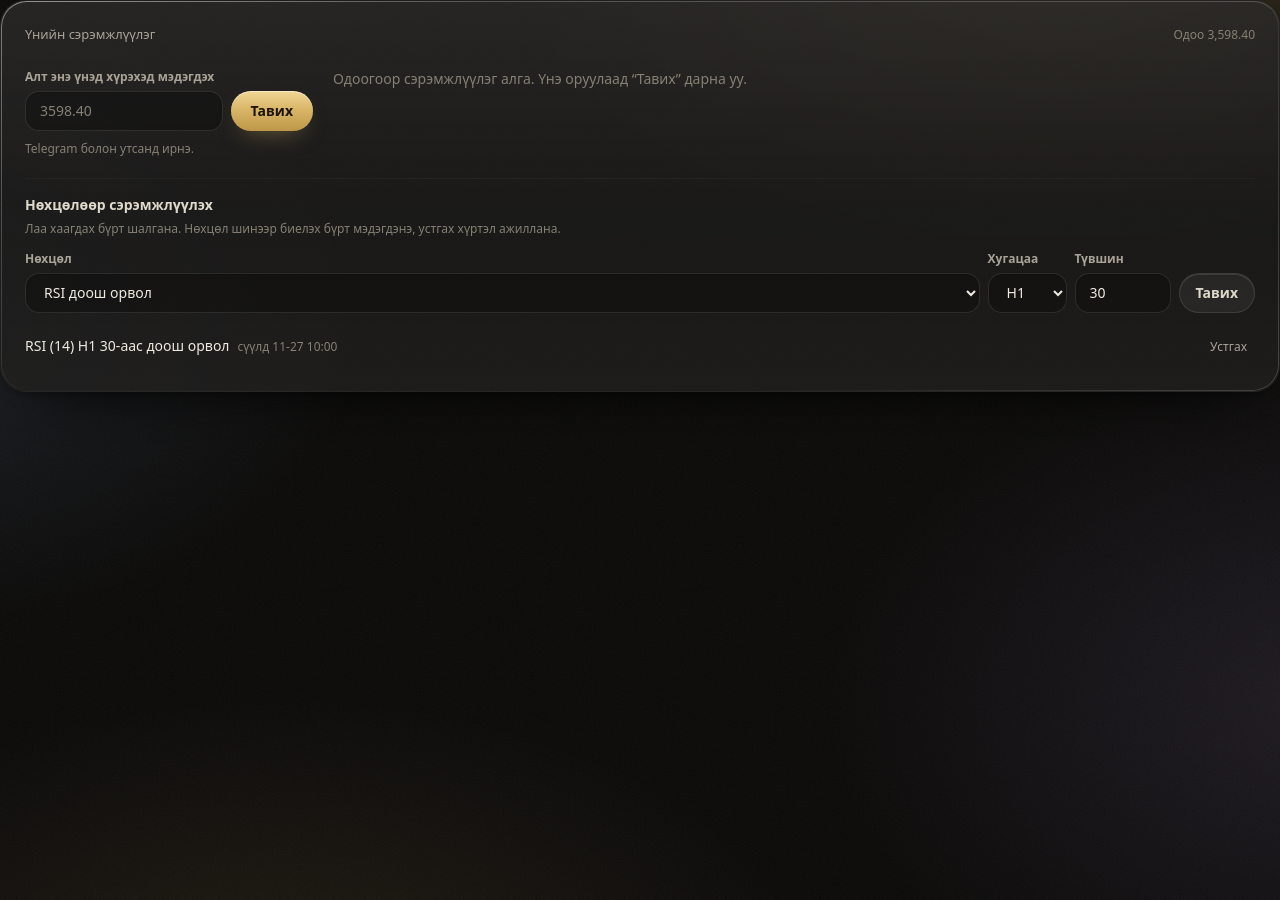
Test case: condition alerts ask for a level only for RSI and no timeframe for yesterday's high and low
Expected: the number field labelled "Түвшин" holds "30", [1075,272,1171,312]
Expected: the dropdown labelled "Хугацаа" is shown, [988,272,1067,312]
Step 1. Select "Өчигдрийн high-ийг sweep хийвэл" in the dropdown labelled "Нөхцөл" → x=502, y=292, box [25,272,980,312]
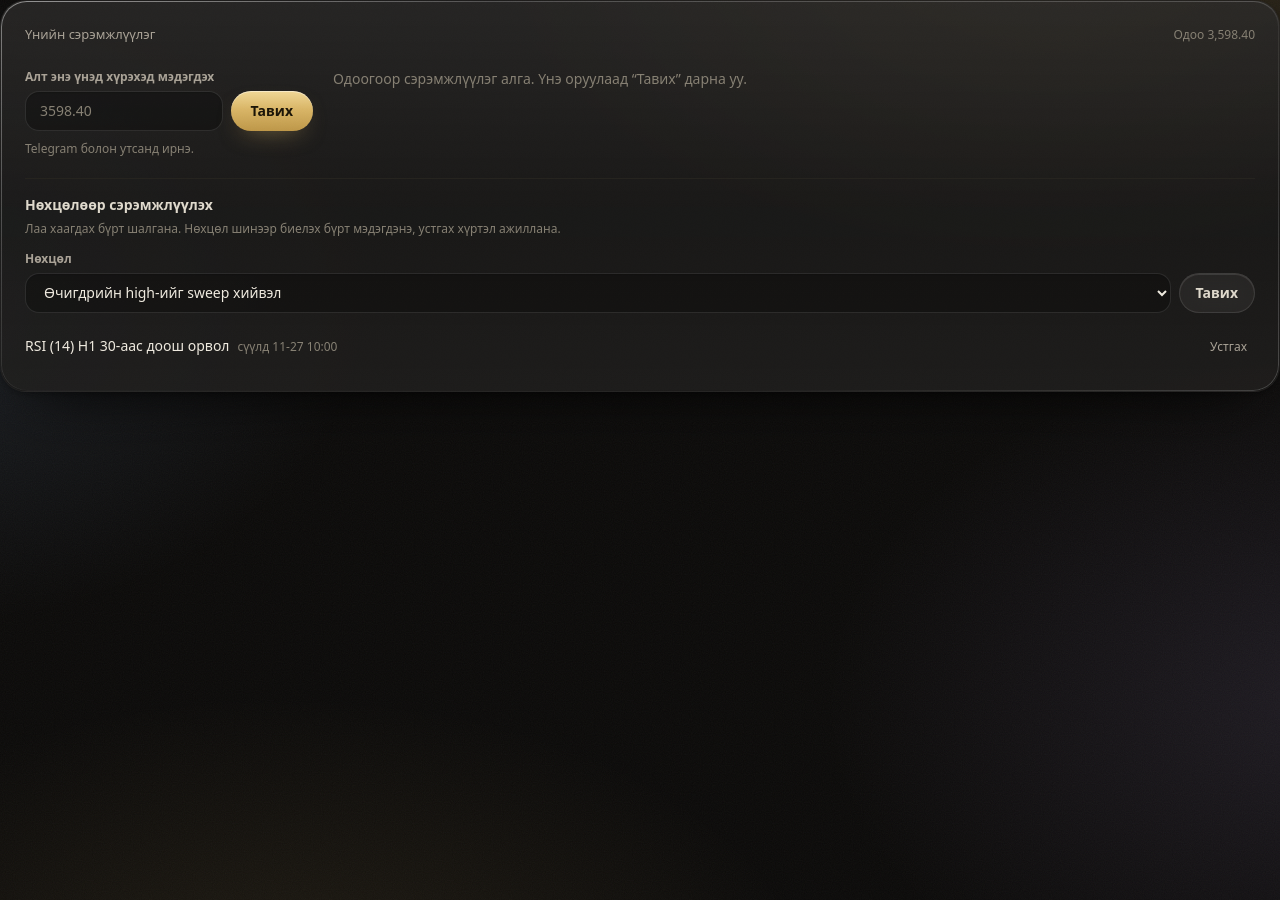
Expected: the text "сүүлд 11-27 10:00" is shown, [238,338,338,354]
Now the label labelled "Түвшин" is gone
Now the label labelled "Хугацаа" is gone
